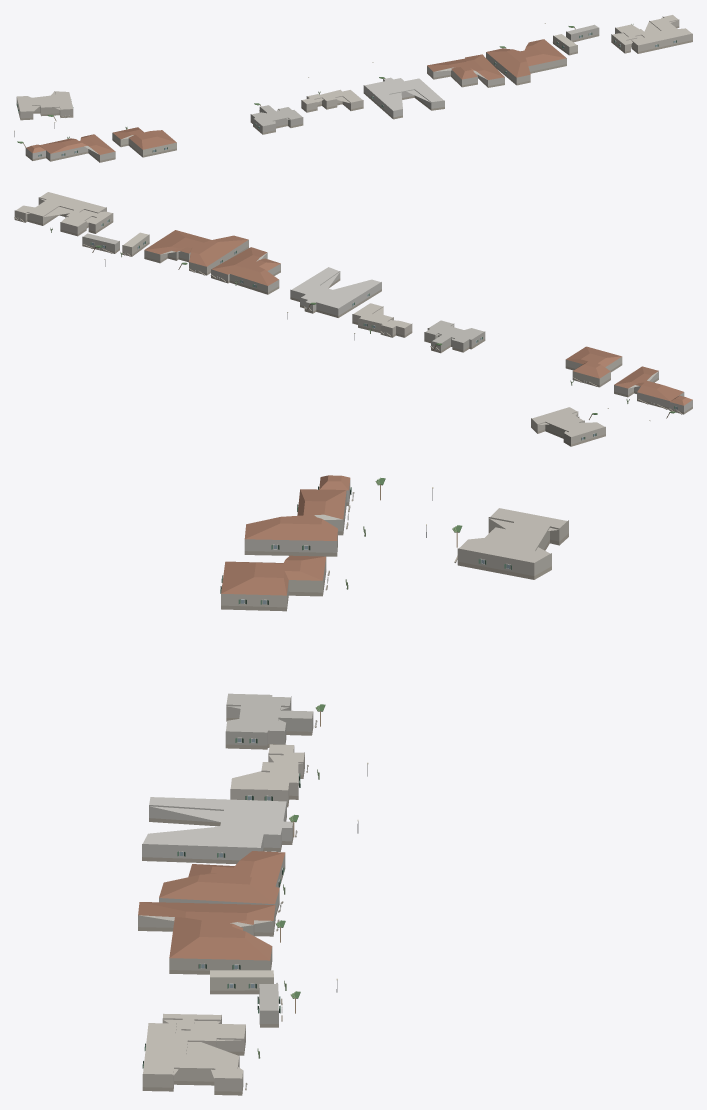
File: nw_mk_wegf.glb
3 views of the same model, one above another, from view 1: azimuth 30°, elevation 25°; view 2: azimuth 150°, elevation 25°; view 3: azimuth 270°, elevation 25° (orthographic). The views are drawn at different scales.
Parts seen in each view (by area): view 1: nw_mk_wegf_lod0; view 2: nw_mk_wegf_lod0; view 3: nw_mk_wegf_lod0.
Part boxes in pixels (x1=…): nw_mk_wegf_lod0: x1=14, y1=15, x2=692, y2=162; nw_mk_wegf_lod0: x1=14, y1=192, x2=692, y2=446; nw_mk_wegf_lod0: x1=138, y1=475, x2=568, y2=1095.
Size of what is drawn, in the model's own units: 302 by 9.09 by 90.9.
